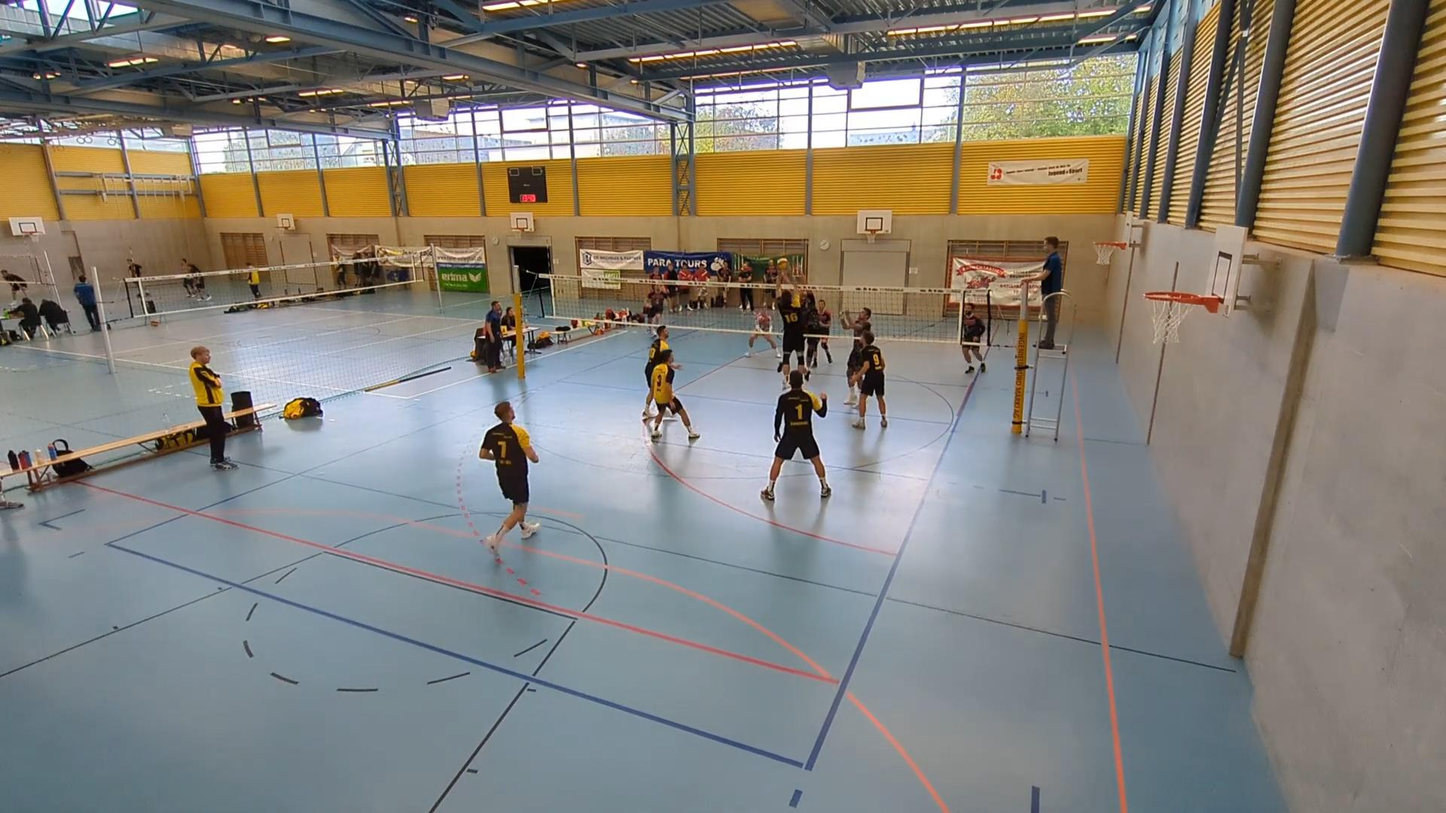Attack: (793, 266, 821, 375)
Block: (776, 265, 806, 391)
Player: (478, 402, 540, 554), (761, 370, 831, 500), (650, 349, 700, 439), (642, 325, 678, 418), (852, 330, 886, 428), (842, 307, 871, 405), (806, 293, 831, 368), (961, 302, 986, 373), (746, 310, 780, 358)
